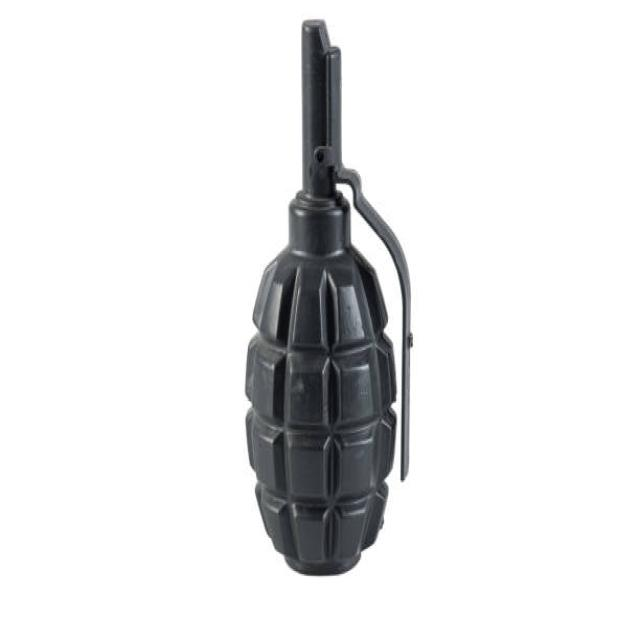grenade: (222, 8, 436, 589)
